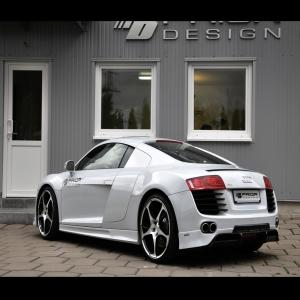Vehicle-registration-plate: (234, 190, 262, 203)
